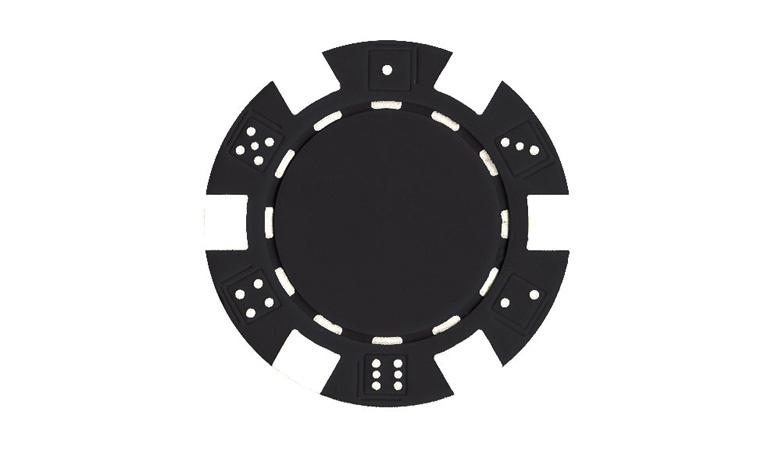chip-black: (207, 41, 568, 406)
